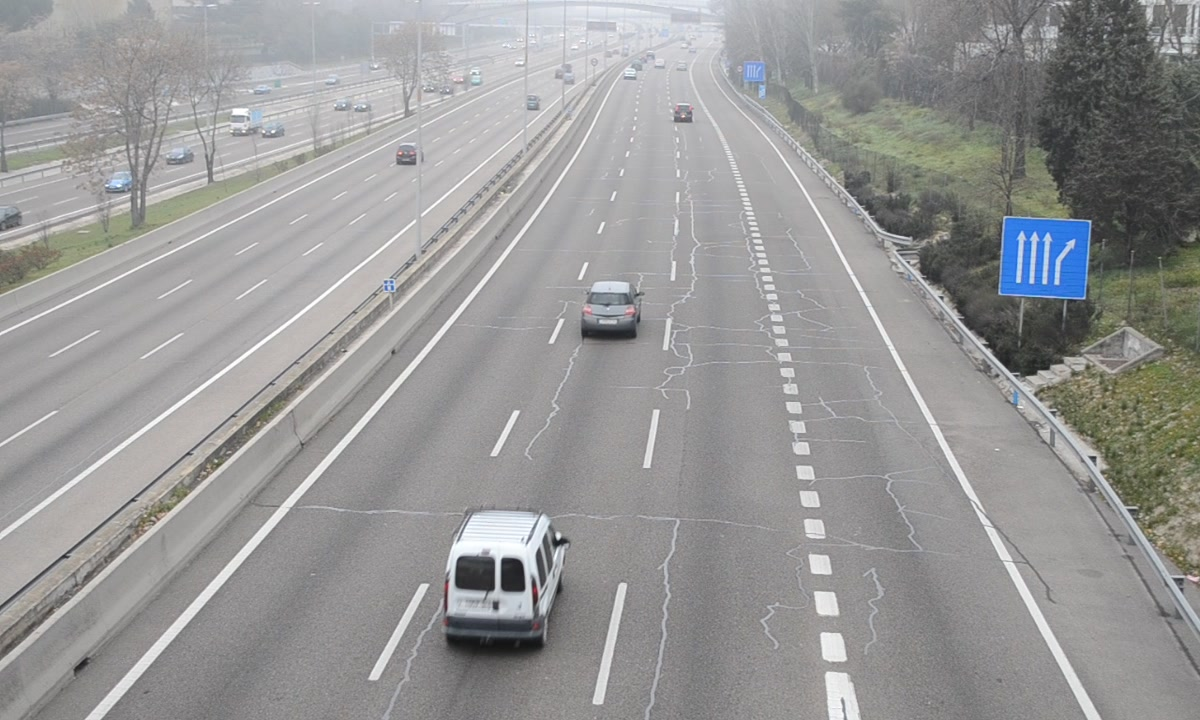car: (581, 280, 640, 336)
van: (444, 510, 565, 649)
